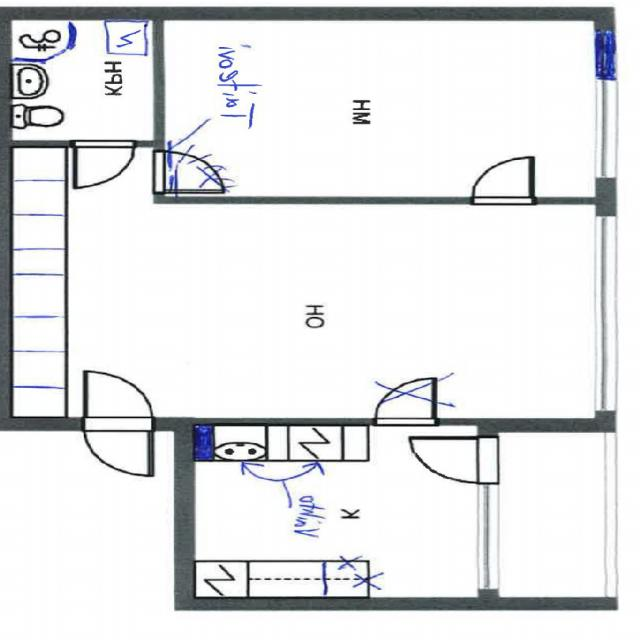door: (84, 418, 153, 478), (410, 437, 499, 483), (84, 372, 153, 431), (473, 156, 534, 204), (74, 141, 134, 187)
